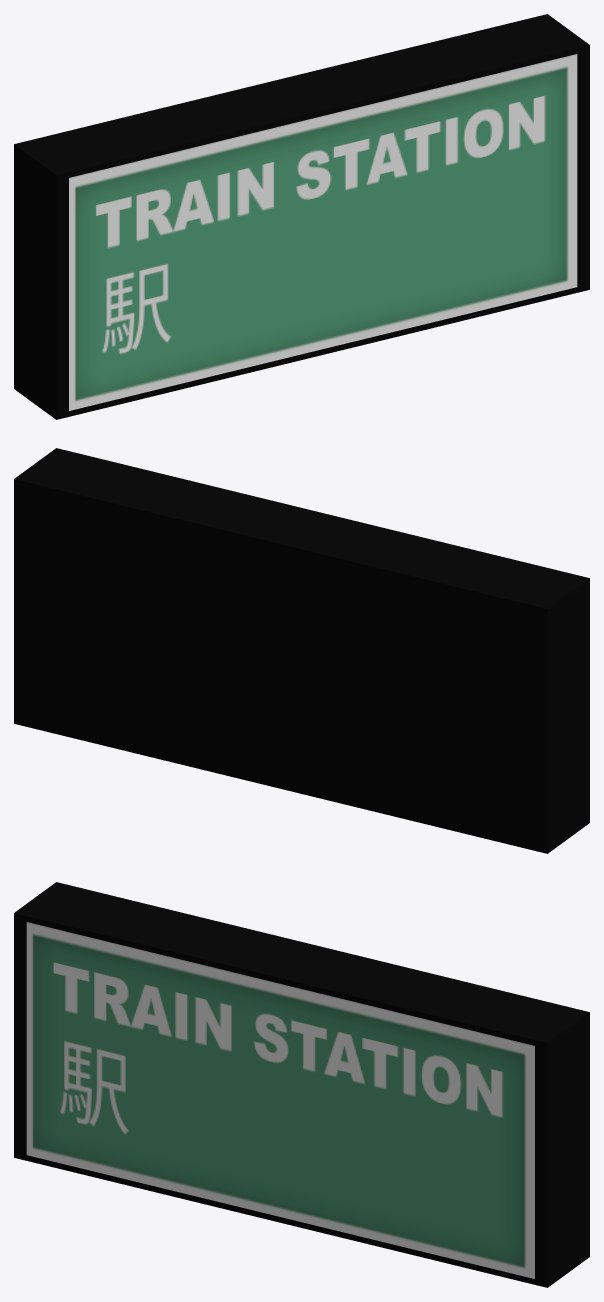
The model's file is TrainStationSign.fbx.
The picture shows the model from 3 angles, top to bottom: view 1: azimuth 30°, elevation 25°; view 2: azimuth 150°, elevation 25°; view 3: azimuth 330°, elevation 25°; orthographic projection.
Visible parts, largest first — view 1: Cube.003; view 2: Cube.003; view 3: Cube.003.
Boxes of the visible parts, x1,y1,x2,y2 form: Cube.003: [14, 14, 589, 419]; Cube.003: [14, 448, 589, 853]; Cube.003: [14, 882, 589, 1287].
Size of the model in its own units: 474 by 208 by 65.2.
